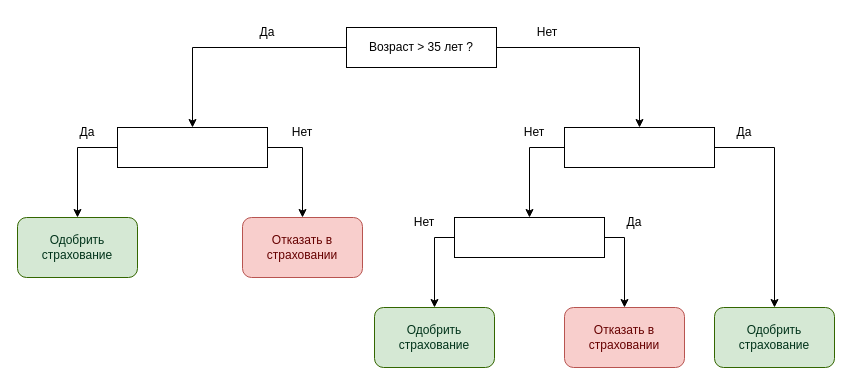
The diagram is 852 pixels wide and 385 high, and some of its shapes have lost their labels. The centre of each missing label's shape, as x and y in pixels:
"Менее 6 дтп за прошлый год" goes at (192,147).
"Мощность > 300 л.с." goes at (529,237).
"Стаж вождения более 2 лет ?" goes at (639,147).
